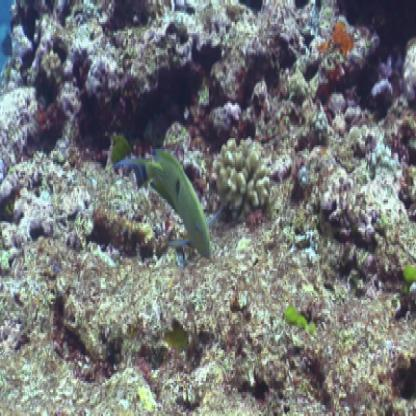Bio: (111, 136, 226, 280)
